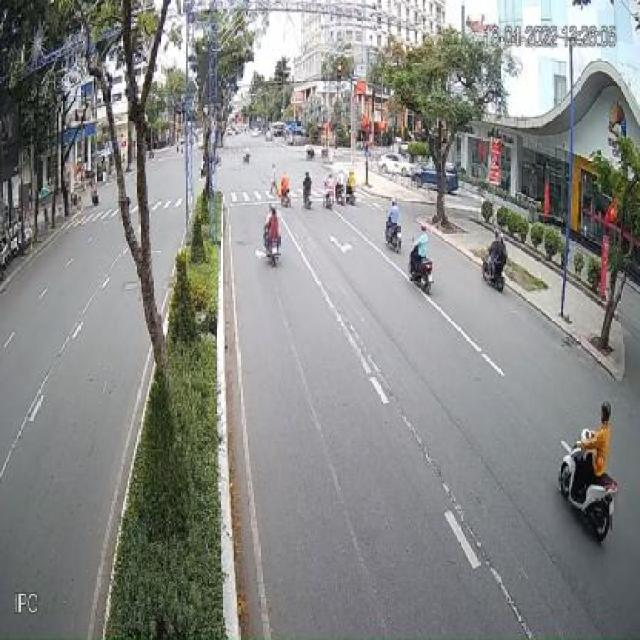motorbike: (558, 402, 618, 544), (408, 236, 434, 300), (483, 238, 507, 296), (264, 203, 282, 269), (385, 202, 403, 255), (334, 166, 347, 204), (303, 171, 315, 209), (346, 168, 358, 205), (278, 174, 292, 205), (326, 183, 336, 213), (323, 182, 333, 211)
